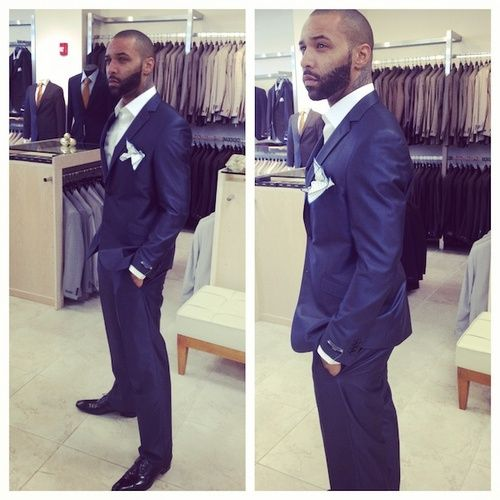feet: (68, 381, 178, 492)
